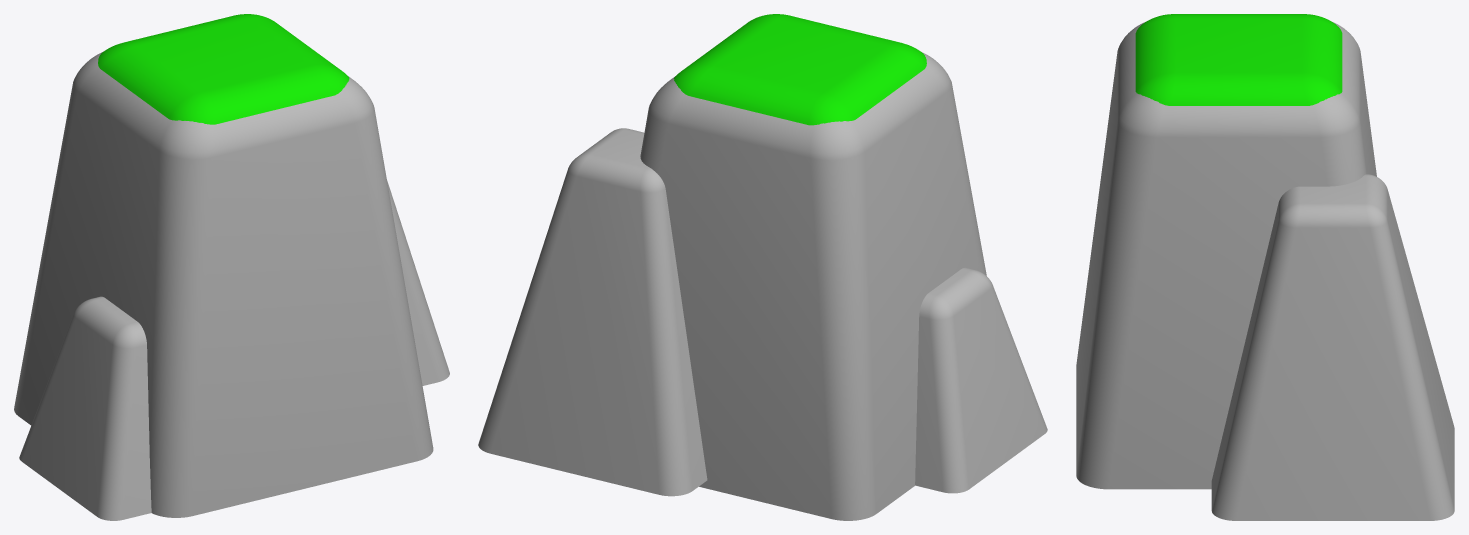
The model's file is stone_2.fbx.
3 views of the same model, side by side, from view 1: azimuth 30°, elevation 25°; view 2: azimuth 150°, elevation 25°; view 3: azimuth 270°, elevation 25° (orthographic).
Visible parts, largest first — view 1: Cube; view 2: Cube; view 3: Cube.
Part boxes in pixels (x1,y1,x2,y2): Cube: (14,14,449,520); Cube: (478,14,1047,520); Cube: (1076,14,1454,520).
Bounding box in the file's own units: 951 × 836 × 765.
